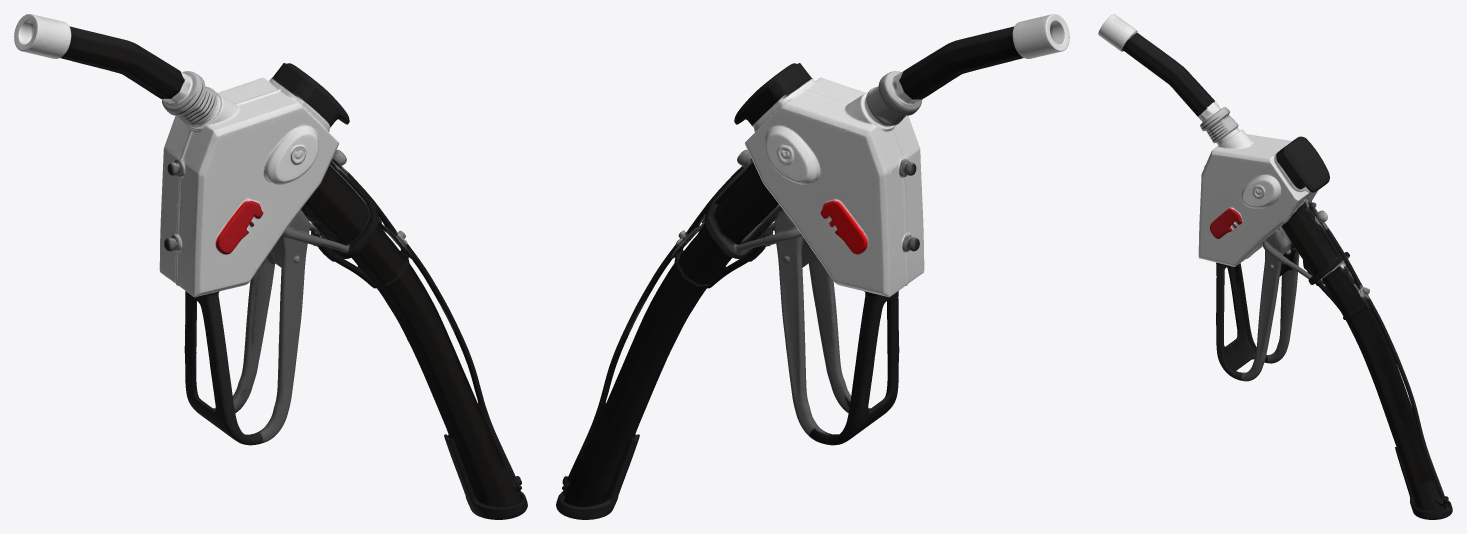
File: nozzle.glb
3 renders of one model, left to right at view 1: azimuth 30°, elevation 25°; view 2: azimuth 150°, elevation 25°; view 3: azimuth 330°, elevation 25°, orthographic. The views are drawn at different scales.
Size of the model in its own units: 1.65 by 1.9 by 0.3094.
Materials: 1 (1 with a texture image).
